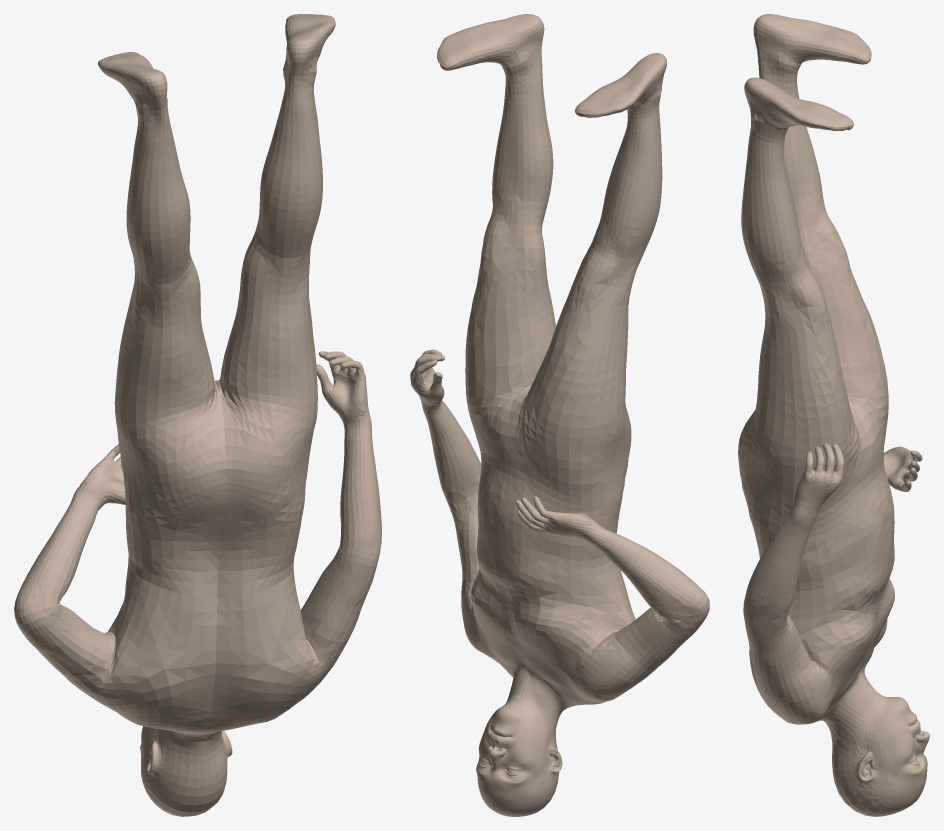
Rendered from avatar_athlete.glb.
3 views of the same model, side by side, from view 1: azimuth 30°, elevation 25°; view 2: azimuth 150°, elevation 25°; view 3: azimuth 270°, elevation 25° (orthographic). The views are drawn at different scales.
Visible parts, largest first — view 1: world; view 2: world; view 3: world.
Part boxes in pixels (x1,y1,x2,y2): world: [14, 14, 381, 816]; world: [410, 14, 709, 816]; world: [738, 14, 929, 816].
Size of the model in its own units: 0.7388 by 1.72 by 0.3941.
